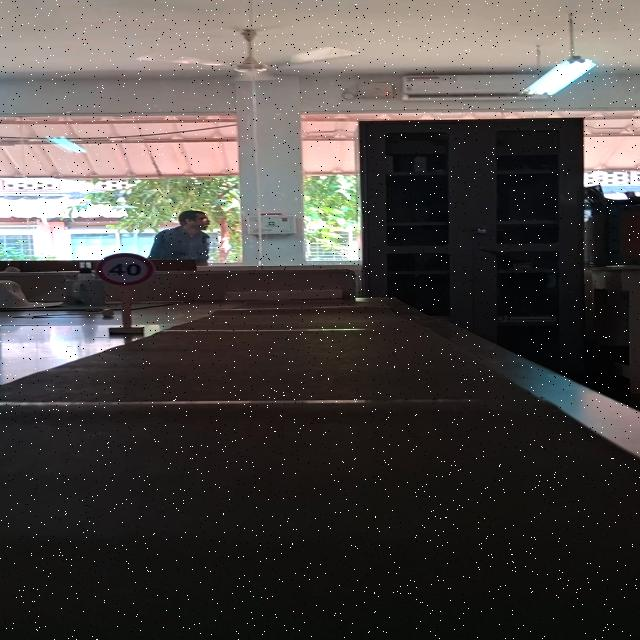Speed40: (95, 251, 155, 287)
